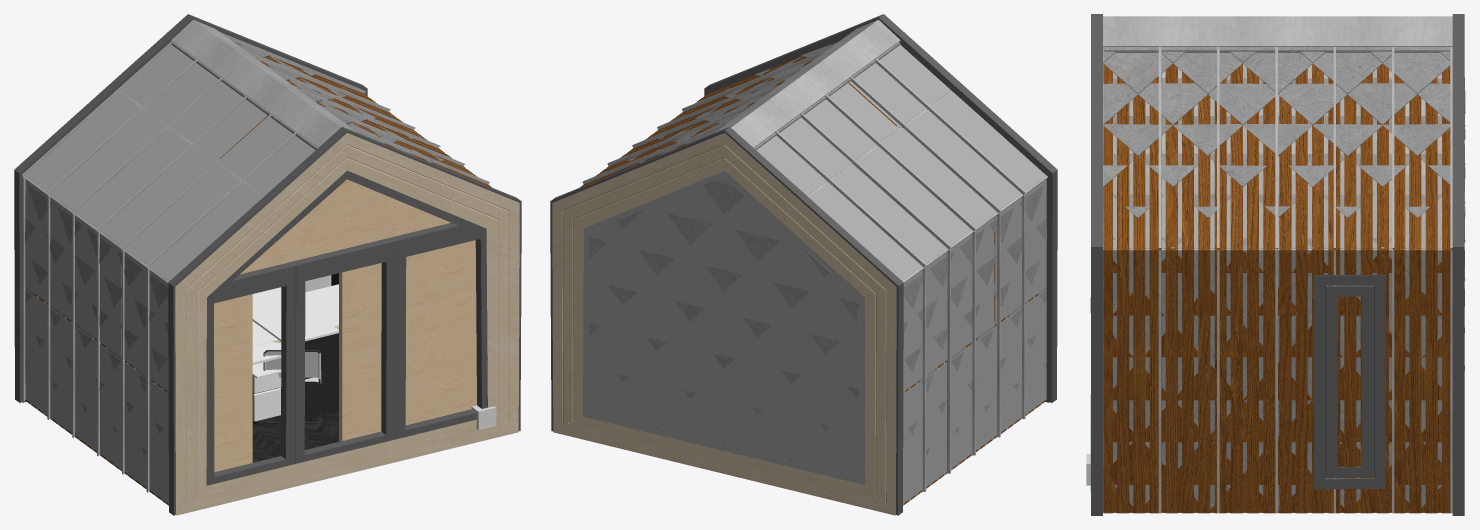
The model's file is brensjtest1_1.glb.
3 renders of one model, left to right at view 1: azimuth 30°, elevation 25°; view 2: azimuth 150°, elevation 25°; view 3: azimuth 270°, elevation 25°, orthographic. The views are drawn at different scales.
Parts seen in each view (by area): view 1: Equitone, frame, frametussenscheiding1, framewindow, zink, leien, frameback, eetaanrecht1_Meubilair, thermowood, floor, tafel2, work1_Meubilair (+1 smaller); view 2: backwall, Equitone, frameback, zink, leien, frame, leien_back, thermowood; view 3: thermowood, leien, zink, sWindow1, frameback, Equitone, frame.
Boxes of the visible parts, x1,y1,x2,y2 form: Equitone: [25, 45, 470, 505]; frame: [168, 127, 521, 515]; frametussenscheiding1: [214, 179, 476, 471]; framewindow: [206, 170, 487, 485]; zink: [22, 19, 490, 492]; leien: [25, 42, 449, 497]; frameback: [14, 14, 367, 402]; eetaanrecht1_Meubilair: [252, 287, 338, 419]; thermowood: [25, 41, 491, 504]; floor: [252, 411, 338, 462]; tafel2: [252, 341, 281, 424]; work1_Meubilair: [252, 273, 338, 346]; backwall: [584, 170, 864, 485]; Equitone: [601, 45, 1046, 505]; frameback: [550, 127, 903, 515]; zink: [582, 19, 1047, 491]; leien: [628, 42, 1046, 497]; frame: [704, 14, 1057, 402]; leien_back: [589, 181, 858, 477]; thermowood: [580, 41, 1046, 504]; thermowood: [1103, 63, 1452, 513]; leien: [1103, 47, 1450, 511]; zink: [1103, 16, 1452, 513]; sWindow1: [1314, 274, 1385, 489]; frameback: [1452, 14, 1464, 515]; Equitone: [1103, 175, 1441, 512]; frame: [1090, 14, 1102, 515].
Bounding box in the file's own units: 39.49 × 37.23 × 31.7.
19 materials, 9 textured.
